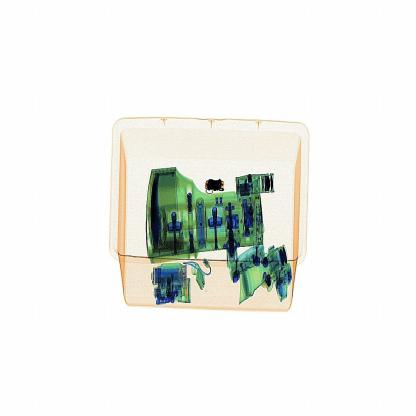scissors: (191, 177, 233, 201)
